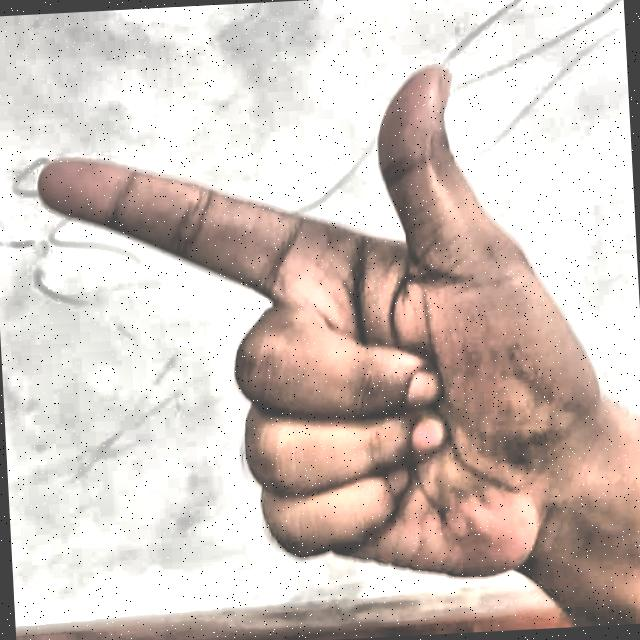Tha: (15, 40, 612, 612)
